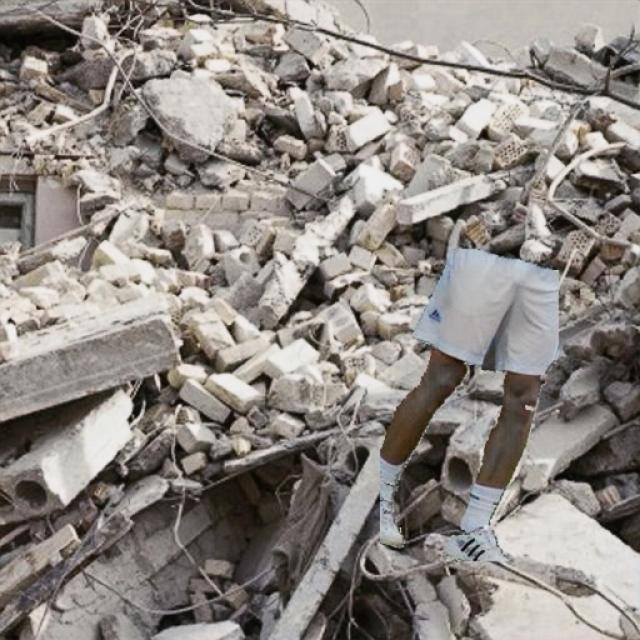Person in Rubble: (380, 249, 558, 560)
